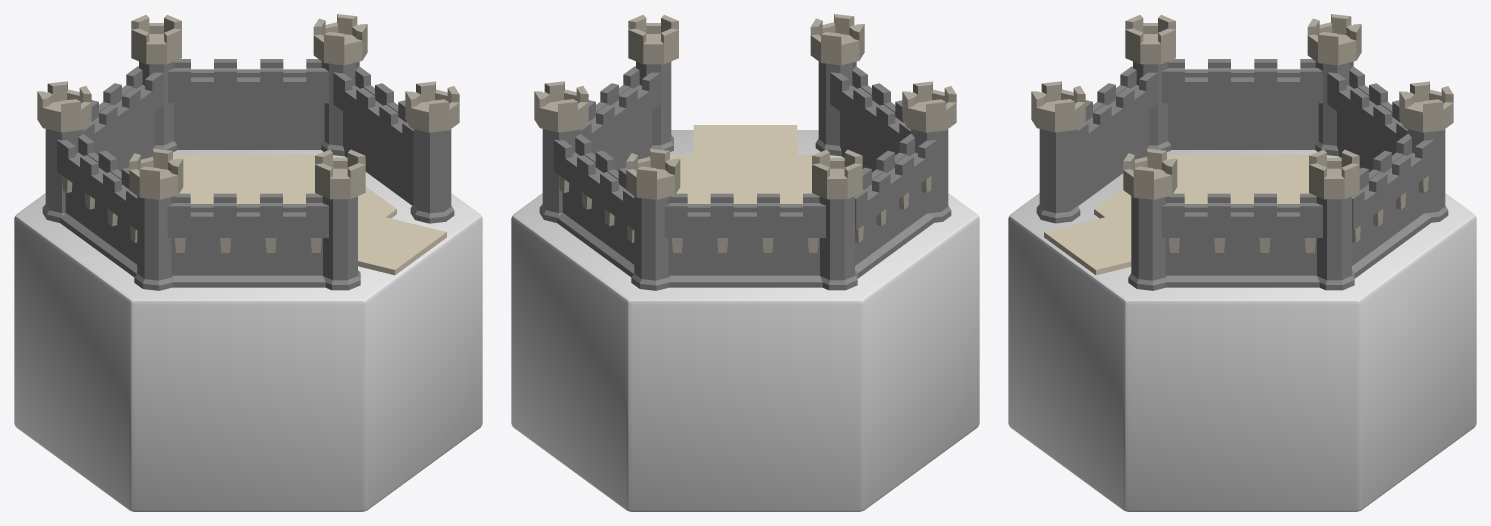
File: finish.fbx
3 renders of one model, left to right at view 1: azimuth 30°, elevation 25°; view 2: azimuth 150°, elevation 25°; view 3: azimuth 270°, elevation 25°, orthographic.
Visible parts, largest first — view 1: BaseN.001; view 2: BaseN.001; view 3: BaseN.001.
Part boxes in pixels (x1=…): BaseN.001: x1=14, y1=14, x2=482, y2=511; BaseN.001: x1=511, y1=14, x2=979, y2=511; BaseN.001: x1=1008, y1=14, x2=1476, y2=511.
Size of the model in its own units: 173 by 157 by 199.
